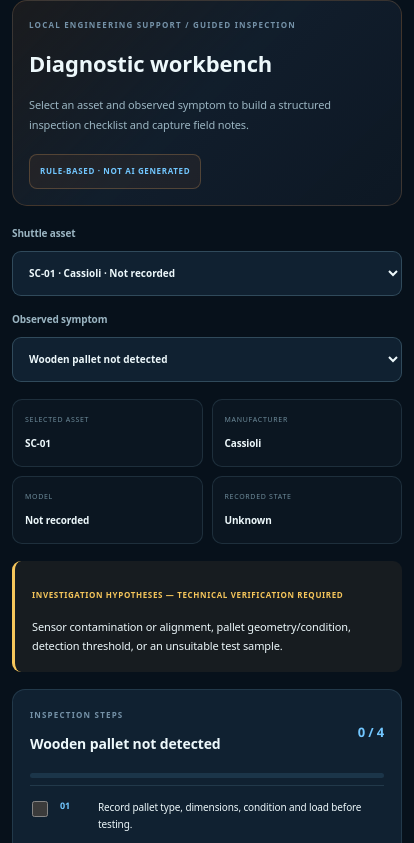
DiagnosticWorkbench › builds a selectable inspection checklist and tracks completed checks
The width and height of the screenshot is (414, 843).
Expected: the text "RULE-BASED · NOT AI GENERATED" is shown, [29,154,201,189]
Select "Wheel slip on cold-room floor" in the dropdown labelled "Observed symptom" at [207, 359], box [12,337,402,382]
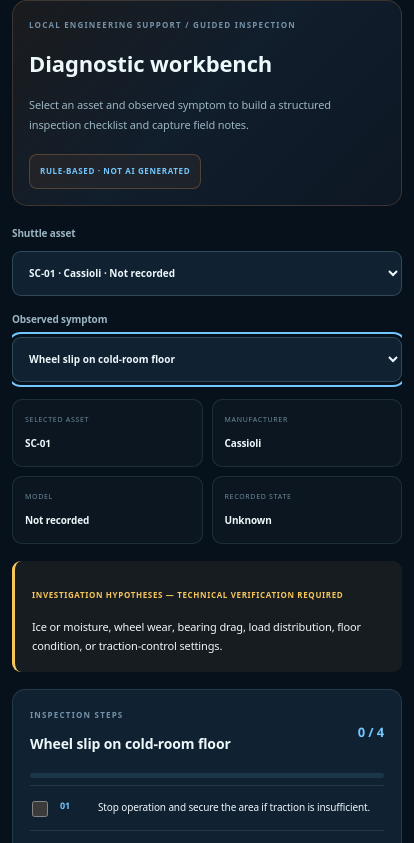
Expected: the heading "Wheel slip on cold-room floor" is shown, [30,730,231,759]
Click the checkbox at [40, 809], box [32,801,48,817]
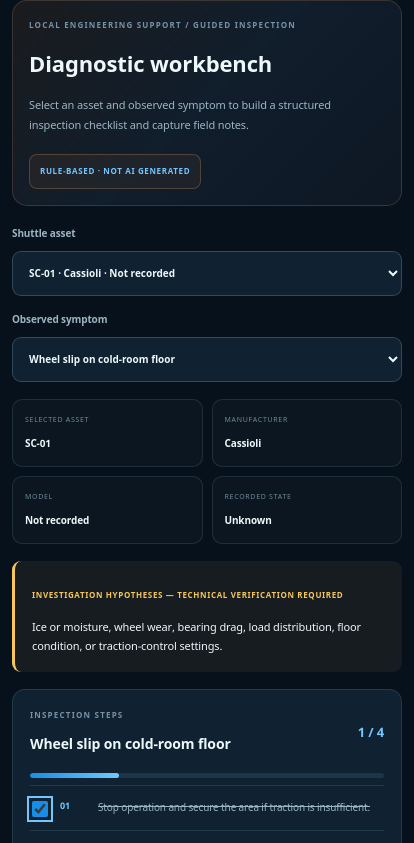
Expected: the text "1 / 4" is shown, [358,719,384,747]
